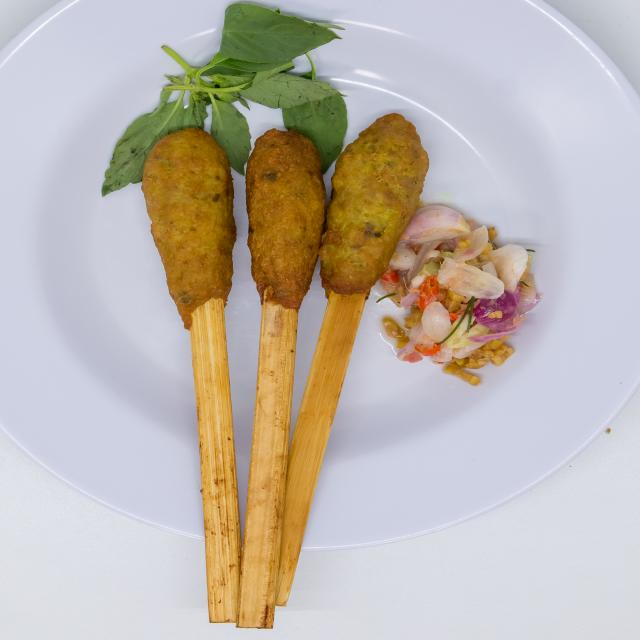Sate-Lilit: (91, 48, 547, 551)
